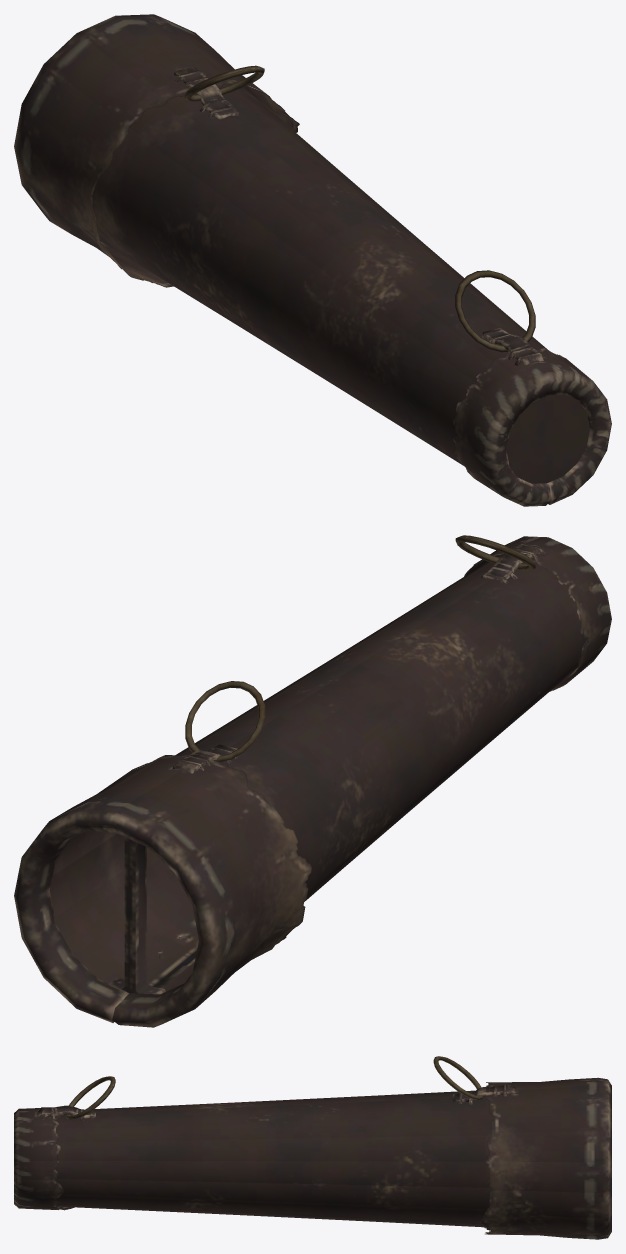
The model's file is quiver.fbx.
3 views of the same model, one above another, from view 1: azimuth 30°, elevation 25°; view 2: azimuth 150°, elevation 25°; view 3: azimuth 270°, elevation 25° (orthographic). The views are drawn at different scales.
Parts seen in each view (by area): view 1: WP_A_6399; view 2: WP_A_6399; view 3: WP_A_6399.
Boxes of the visible parts, left/top/right/bottom form: WP_A_6399: left=14, top=14, right=611, bottom=506; WP_A_6399: left=14, top=535, right=611, bottom=1027; WP_A_6399: left=14, top=1056, right=611, bottom=1239.
Size of the model in its own units: 11.38 by 13.01 by 40.63.
1 material, 1 textured.
